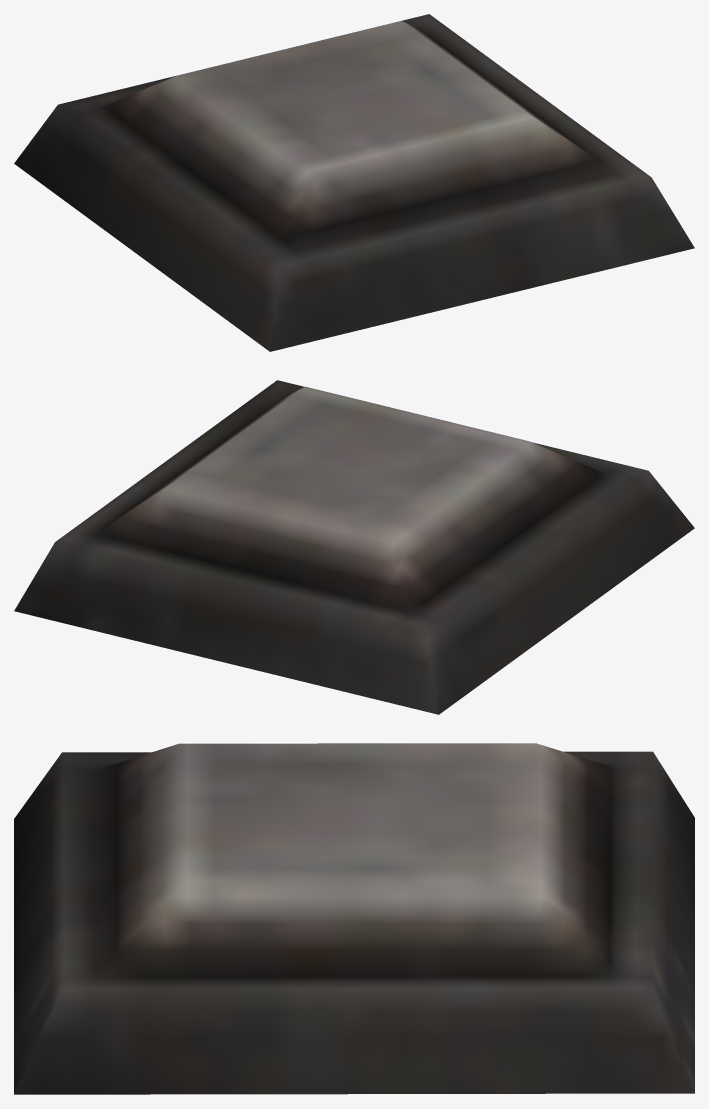
File: computer_parts_button_square.dae
The picture shows the model from 3 angles, top to bottom: view 1: azimuth 30°, elevation 25°; view 2: azimuth 150°, elevation 25°; view 3: azimuth 270°, elevation 25°; orthographic projection. The views are drawn at different scales.
Parts seen in each view (by area): view 1: computer_parts_button; view 2: computer_parts_button; view 3: computer_parts_button.
Part boxes in pixels (<box>): computer_parts_button: <box>14,14,694,351</box>; computer_parts_button: <box>14,380,694,714</box>; computer_parts_button: <box>14,743,694,1094</box>.
Bounding box in the file's own units: 0.0724 × 0.0175 × 0.0756.
